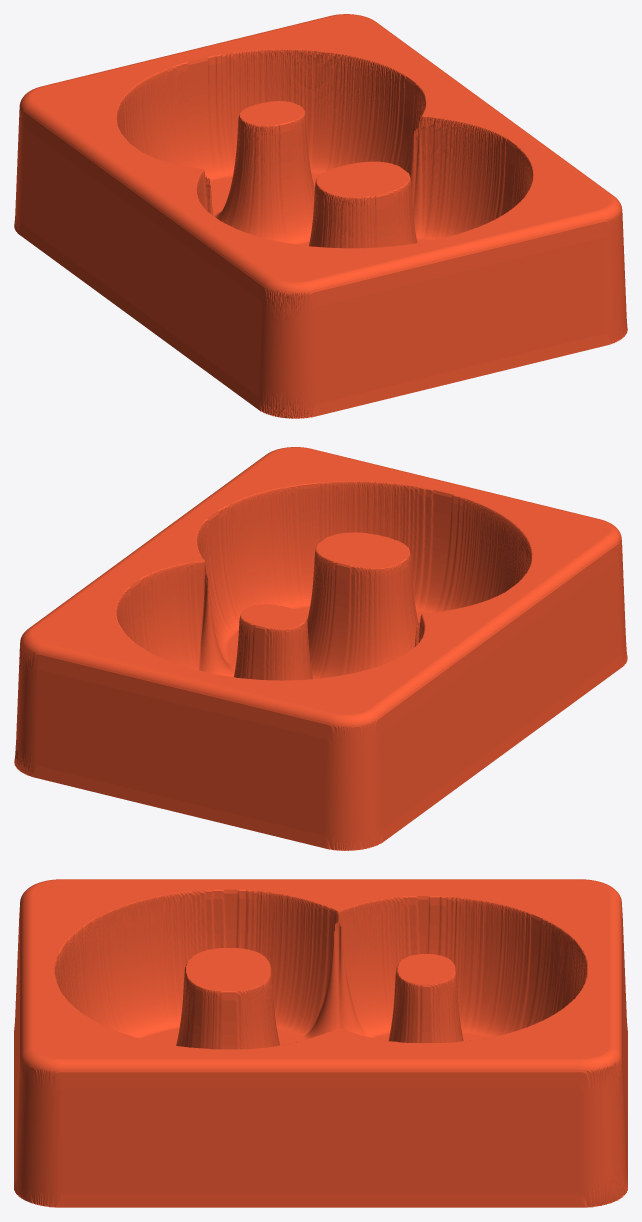
File: mold.glb
3 renders of one model, top to bottom at view 1: azimuth 30°, elevation 25°; view 2: azimuth 150°, elevation 25°; view 3: azimuth 270°, elevation 25°, orthographic. The views are drawn at different scales.
Parts seen in each view (by area): view 1: geometry_0; view 2: geometry_0; view 3: geometry_0.
Boxes of the visible parts, x1=… form: geometry_0: x1=14, y1=14, x2=627, y2=418; geometry_0: x1=14, y1=447, x2=627, y2=850; geometry_0: x1=14, y1=879, x2=627, y2=1207.
Size of the model in its own units: 0.088 by 0.0299 by 0.1178.
